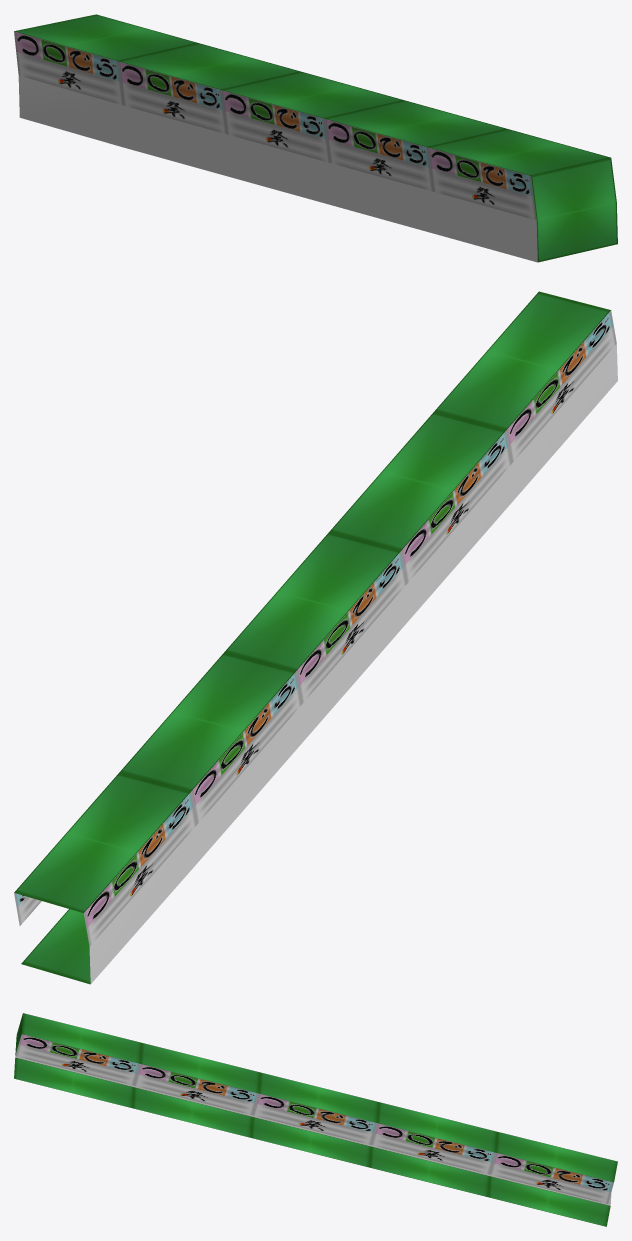
The model's file is Walls_1.fbx.
3 renders of one model, top to bottom at view 1: azimuth 30°, elevation 25°; view 2: azimuth 150°, elevation 25°; view 3: azimuth 270°, elevation 25°, orthographic. The views are drawn at different scales.
Visible parts, largest first — view 1: polySurface68; view 2: polySurface68; view 3: polySurface68.
Boxes of the visible parts, x1,y1,x2,y2 form: polySurface68: (14, 14, 617, 262); polySurface68: (14, 291, 617, 984); polySurface68: (14, 1013, 617, 1226).
Size of the model in its own units: 2.64 by 8.22 by 24.15.
